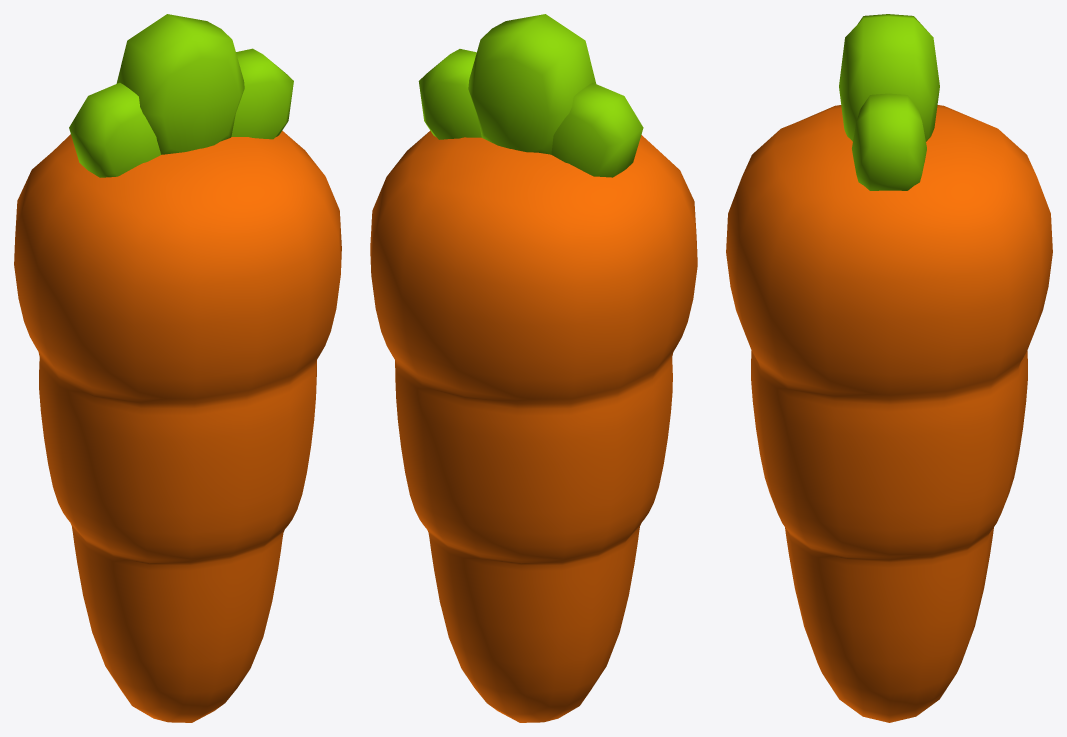
Rendered from Carrot.fbx.
3 views of the same model, side by side, from view 1: azimuth 30°, elevation 25°; view 2: azimuth 150°, elevation 25°; view 3: azimuth 270°, elevation 25° (orthographic).
Parts seen in each view (by area): view 1: pCube5; view 2: pCube5; view 3: pCube5.
Part boxes in pixels (left/top/right/bottom): pCube5: left=14, top=14, right=341, bottom=722; pCube5: left=370, top=14, right=697, bottom=722; pCube5: left=726, top=14, right=1052, bottom=722.
Bounding box in the file's own units: 1.56 × 3.69 × 1.56.
1 material, 1 textured.
